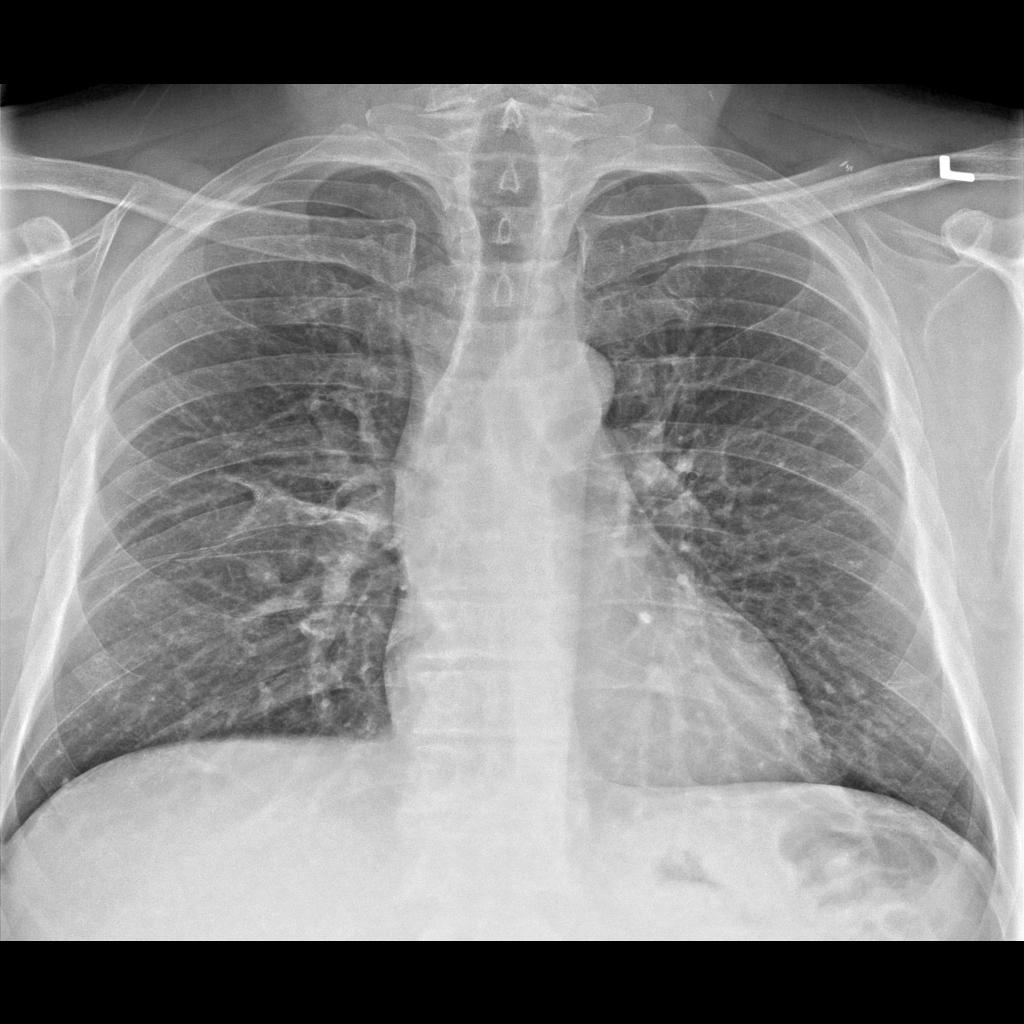Nodule: (240, 555, 286, 597)
